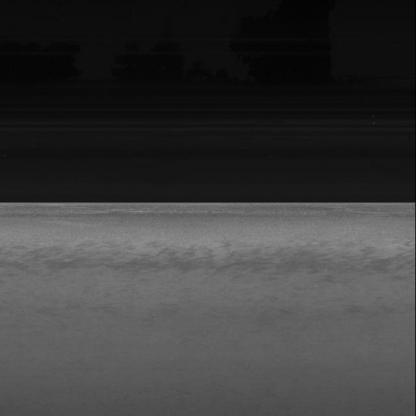silk_spot: (148, 238, 255, 279)
